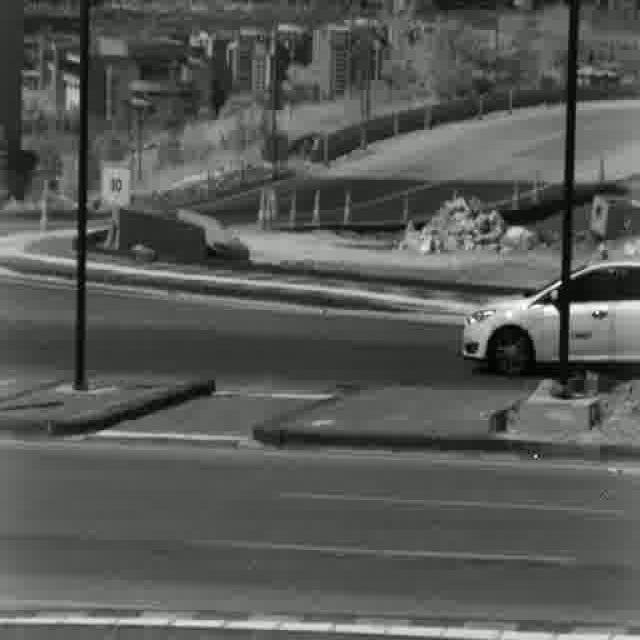Car: (460, 262, 640, 377)
